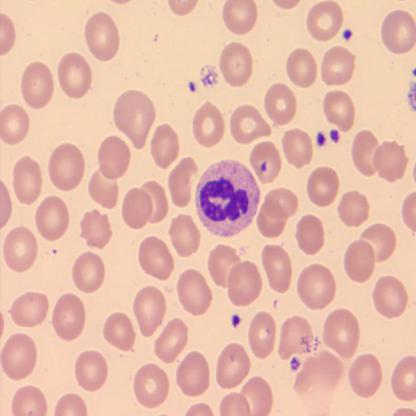Segmented neutrophil: (194, 158, 261, 241)
